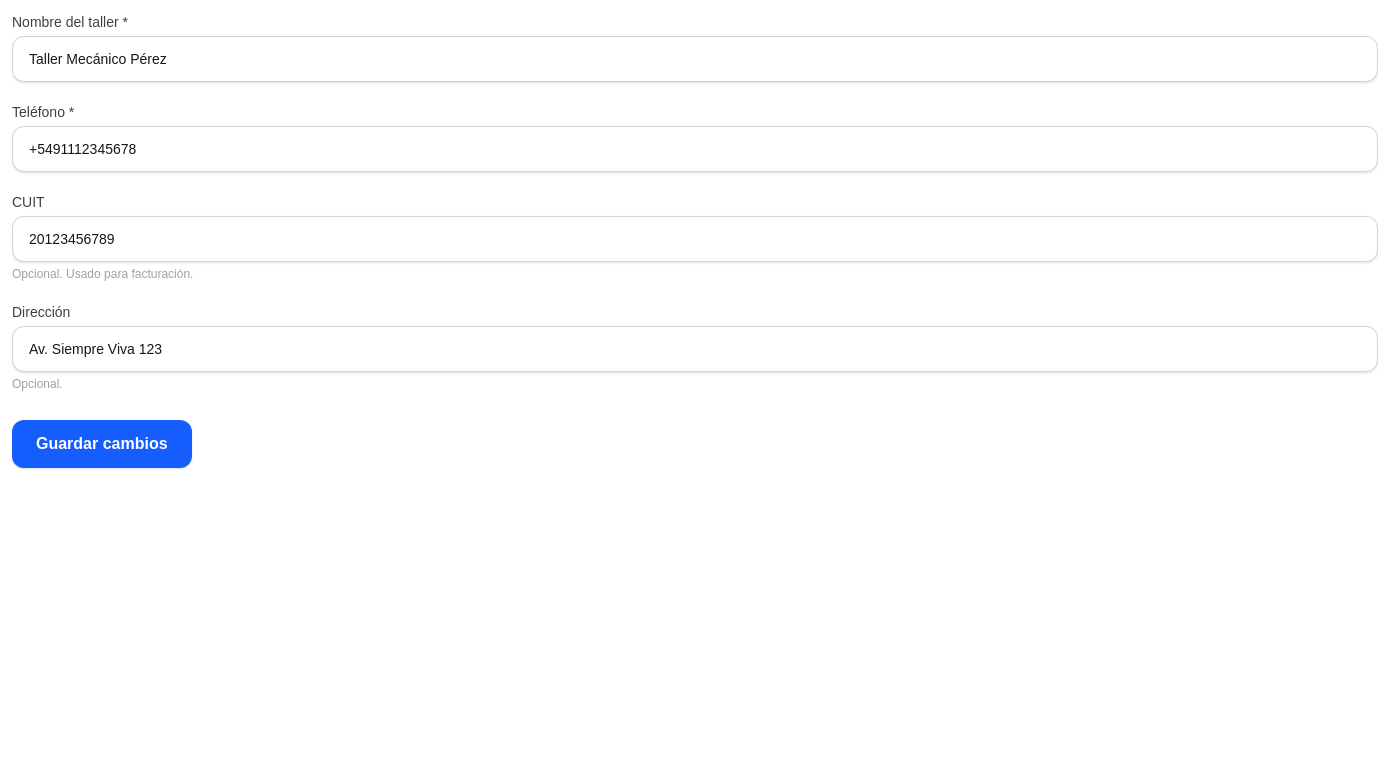
WorkshopForm › submission › shows server error on failure
The image size is (1390, 780).
Click the button "Guardar cambios". click: (102, 444)
box: [12,420,192,468]
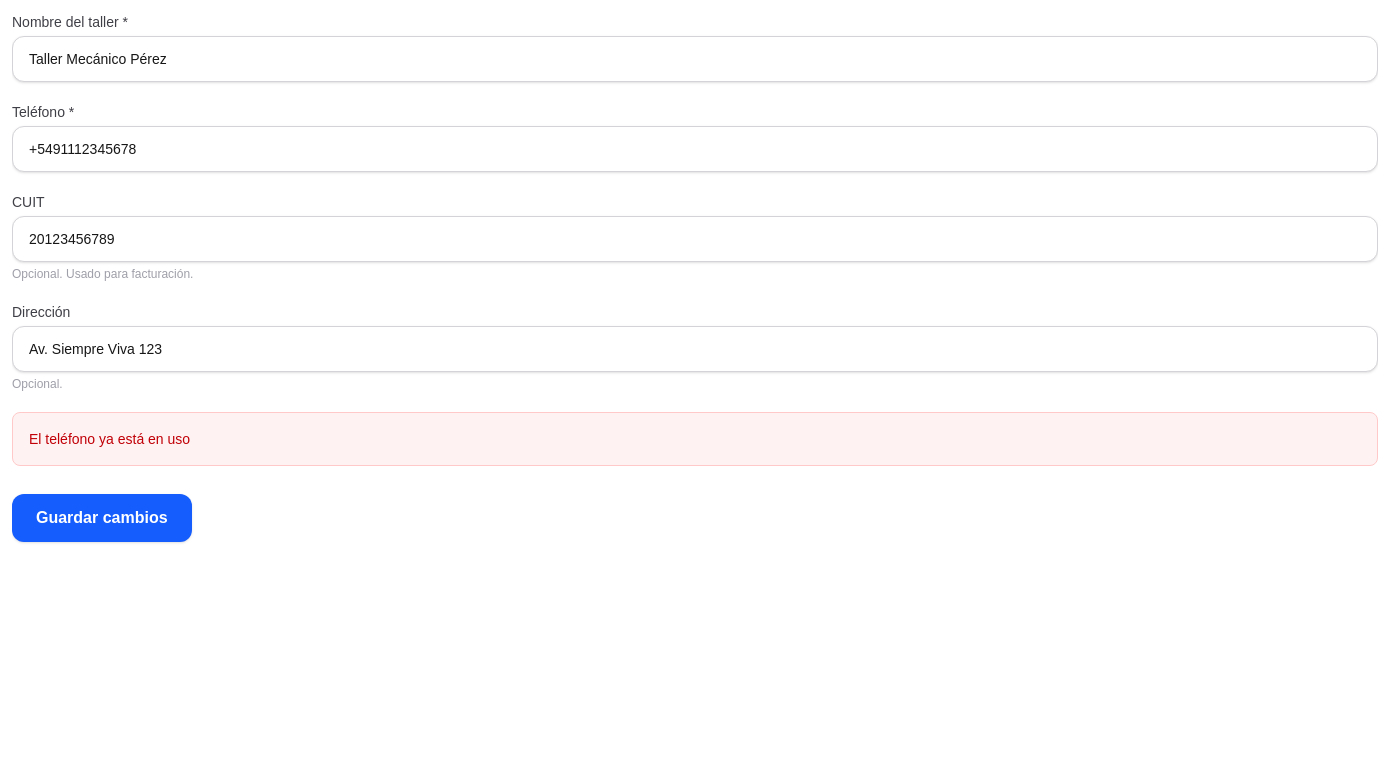
Result: the text "El teléfono ya está en uso" is shown at [12,412,1378,466]
